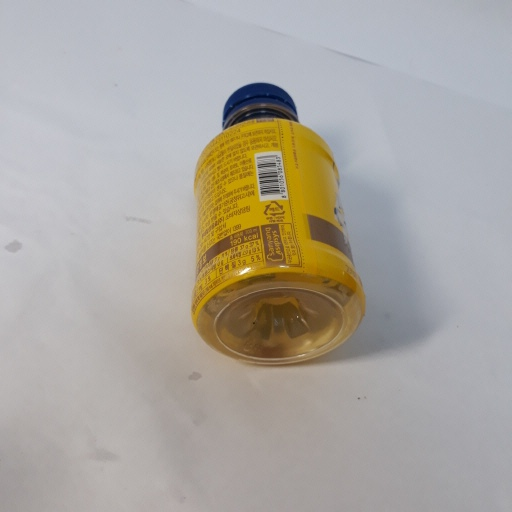Plastic_0: (186, 80, 371, 367)
